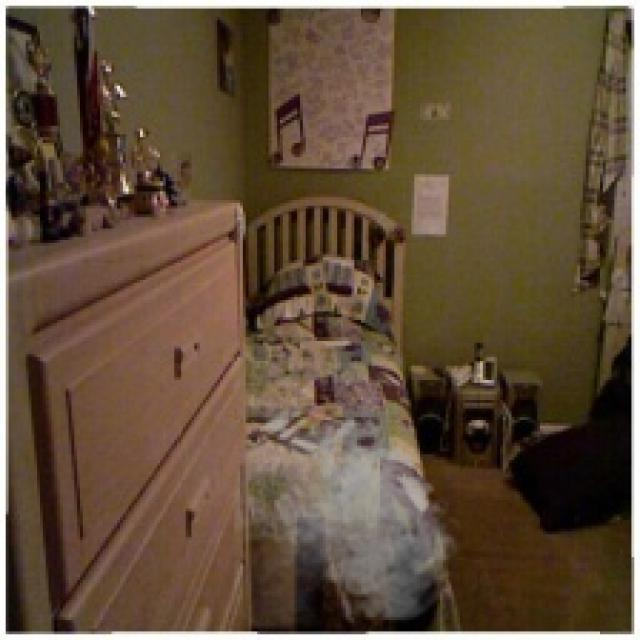smoke: (234, 403, 466, 628)
